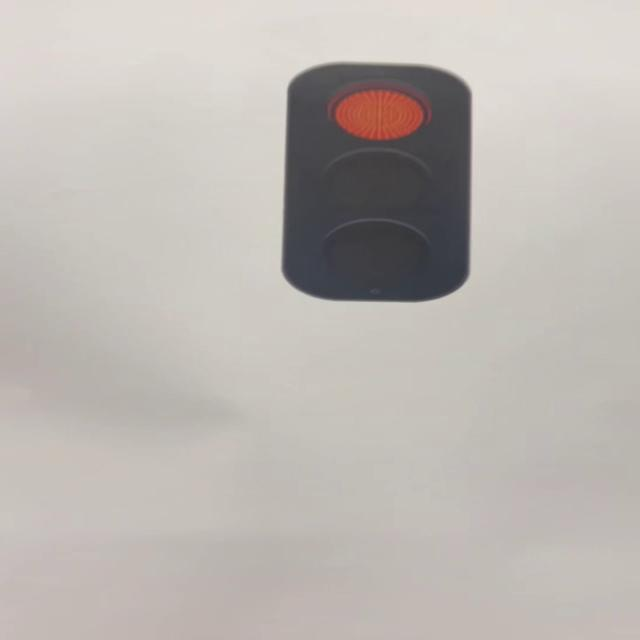red: (290, 65, 478, 302)
